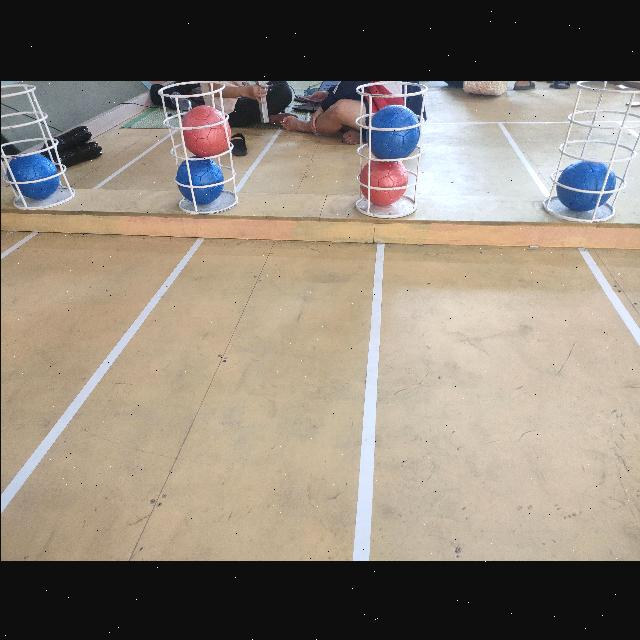B: (368, 104, 419, 160), (556, 160, 614, 208), (5, 152, 58, 200), (174, 156, 222, 204)
R: (182, 104, 230, 158), (360, 156, 406, 204)
